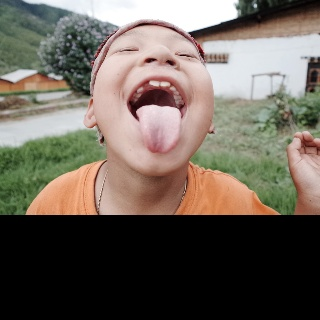without_mask: (92, 23, 214, 177)
